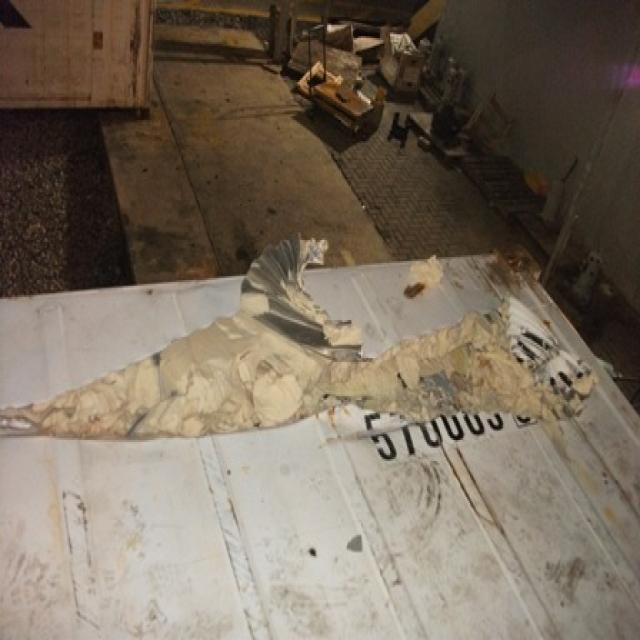hole: (1, 309, 589, 466)
